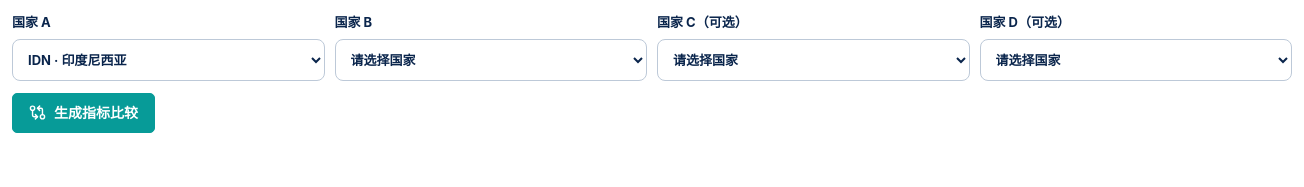
Scenario: Basic60ComparisonSelector › requires two distinct countries before navigating
This screenshot has width=1304, height=187.
What coordinates should you click on to do the following:
click the button "生成指标比较"
I would click on:
 (84, 113)
Its box is [12,93,155,133].
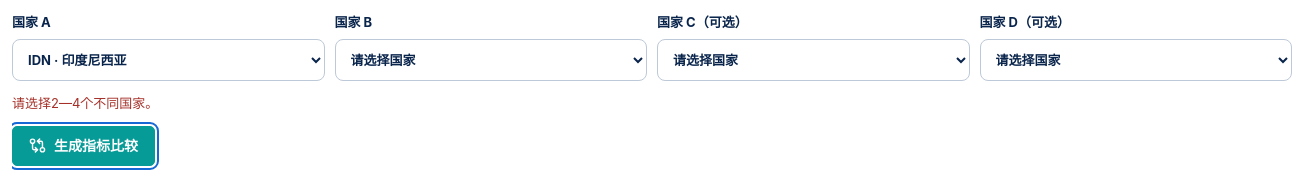
Now the message shows "请选择2—4个不同国家", box [12,95,158,111]
